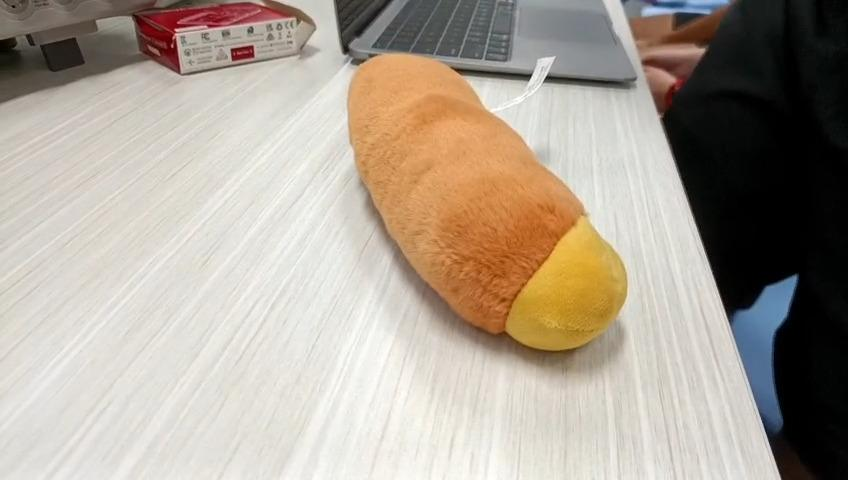hotdog: (348, 53, 628, 352)
